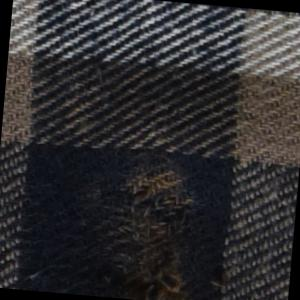Damage: (90, 152, 222, 300)
